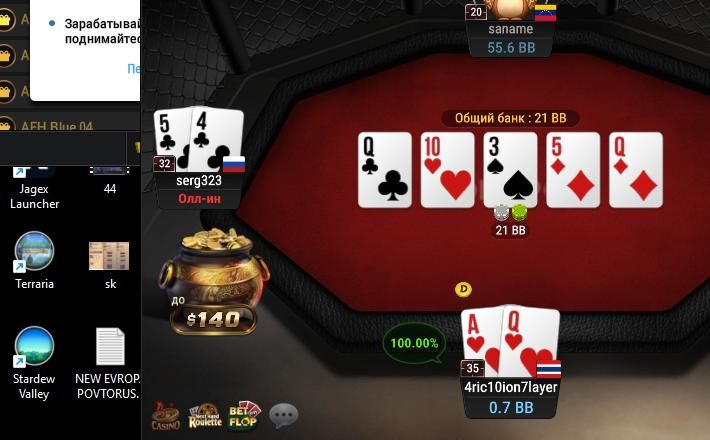10h: (422, 132, 475, 208)
3s: (484, 133, 537, 207)
4c: (190, 106, 245, 171)
5c: (153, 107, 191, 172)
5d: (546, 132, 601, 209)
Ah: (460, 309, 500, 378)
Qc: (359, 133, 412, 208)
Qd: (609, 133, 662, 206)
Qh: (501, 304, 559, 379)
